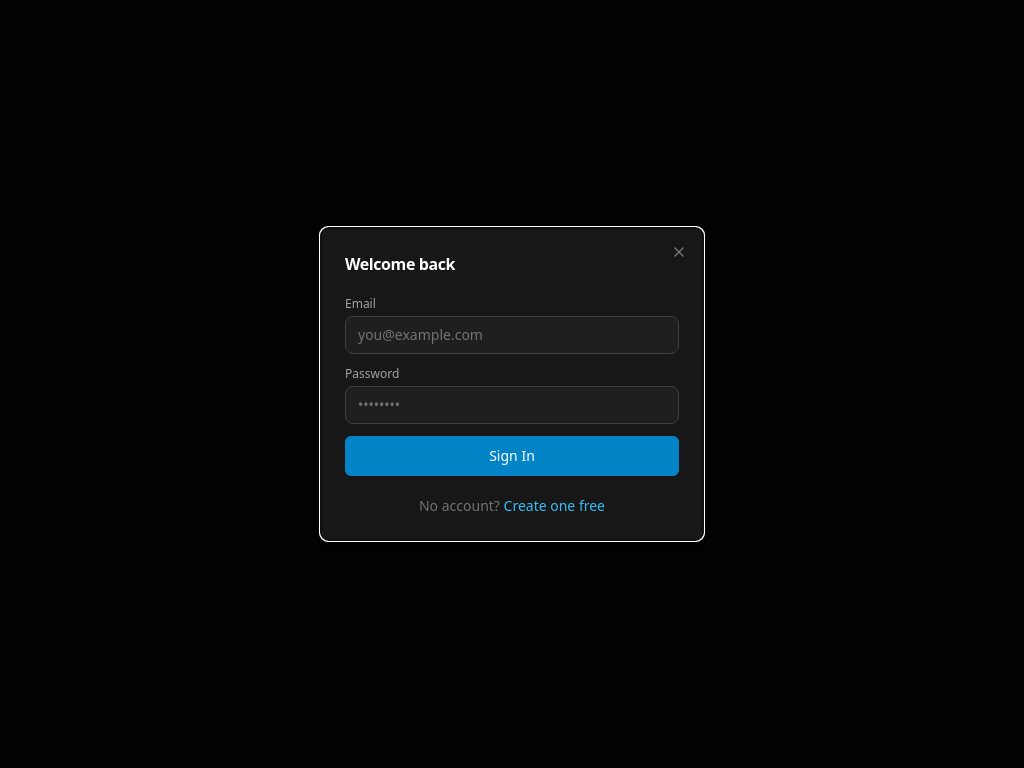
Scenario: AuthModal › login form › shows validation error for password shorter than 8 characters
Type "a@b.com" into the field labelled "Email" at (512, 335), box 345,316 -> 679,354
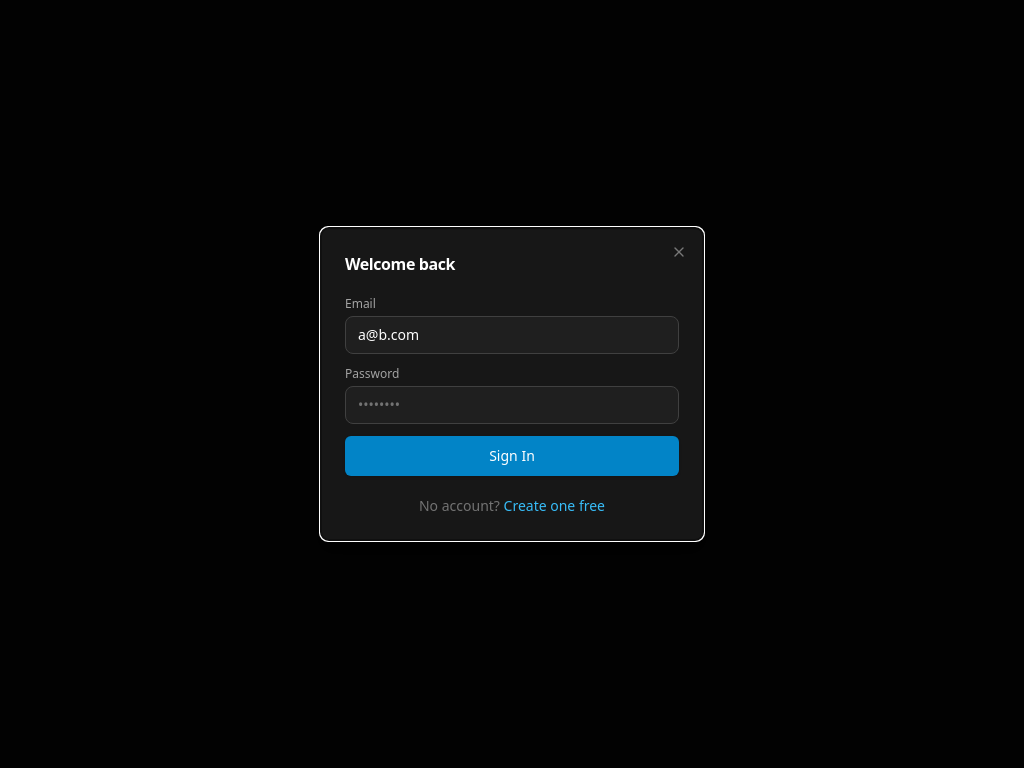
Type "short" into the password field labelled "Password" at (512, 405), box 345,386 -> 679,424
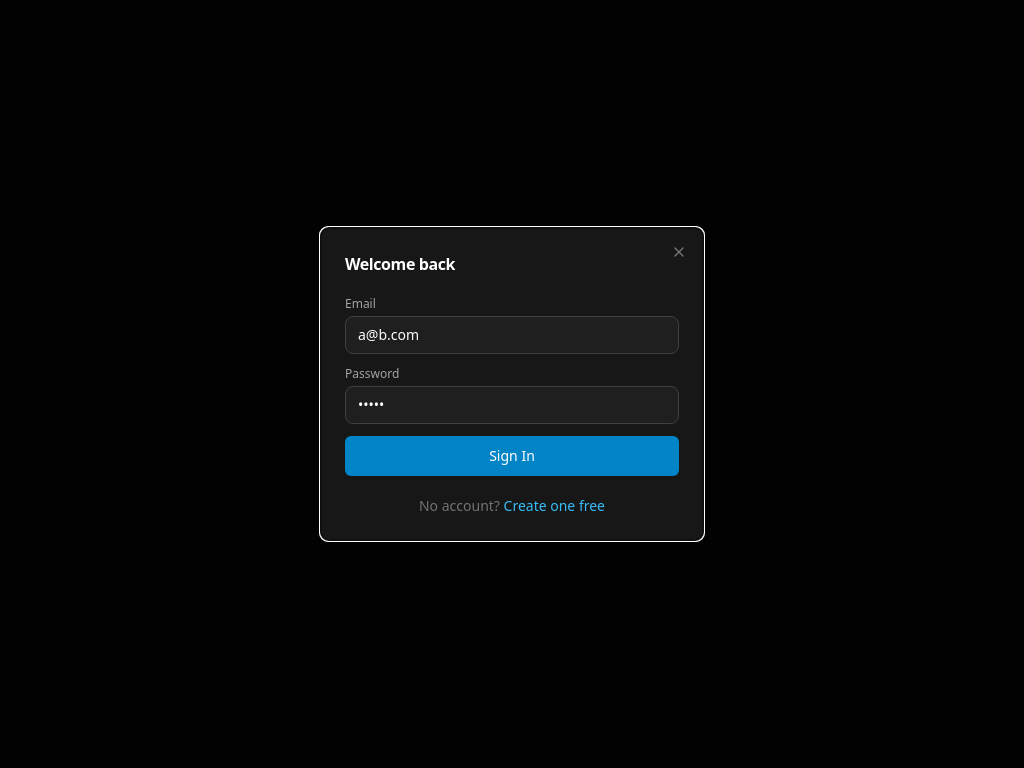
Click the button "Sign In" at (512, 456), box 345,436 -> 679,476
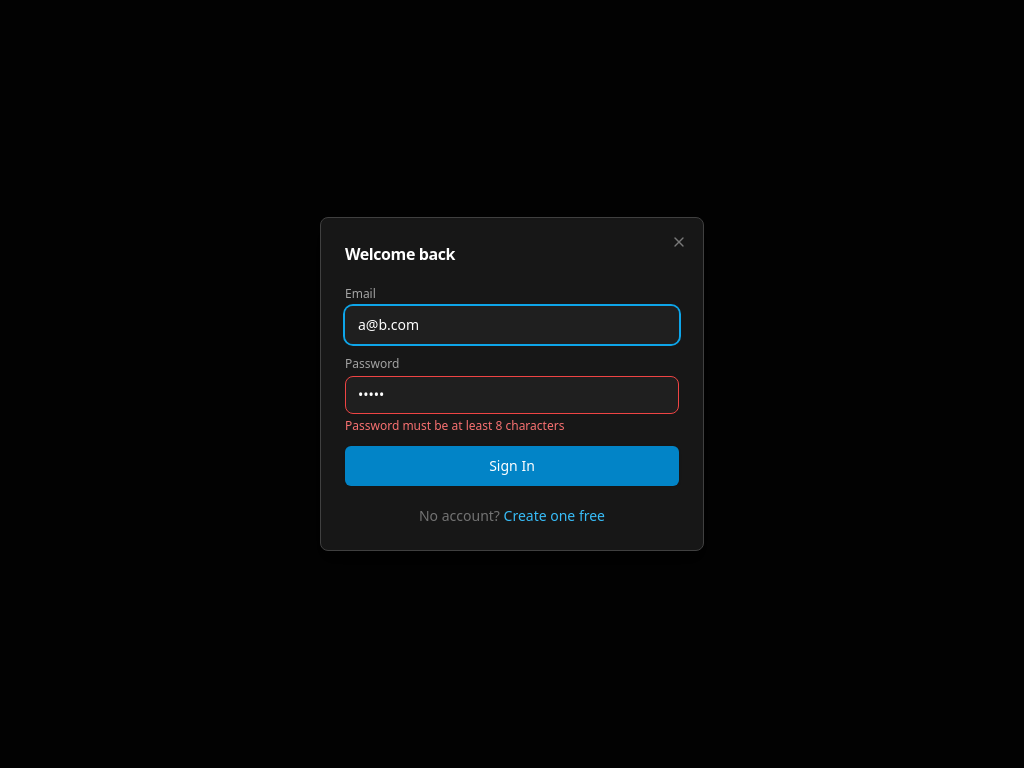
Expected: the text "Password must be at least 8 characters" is shown, 345,417 -> 564,434
